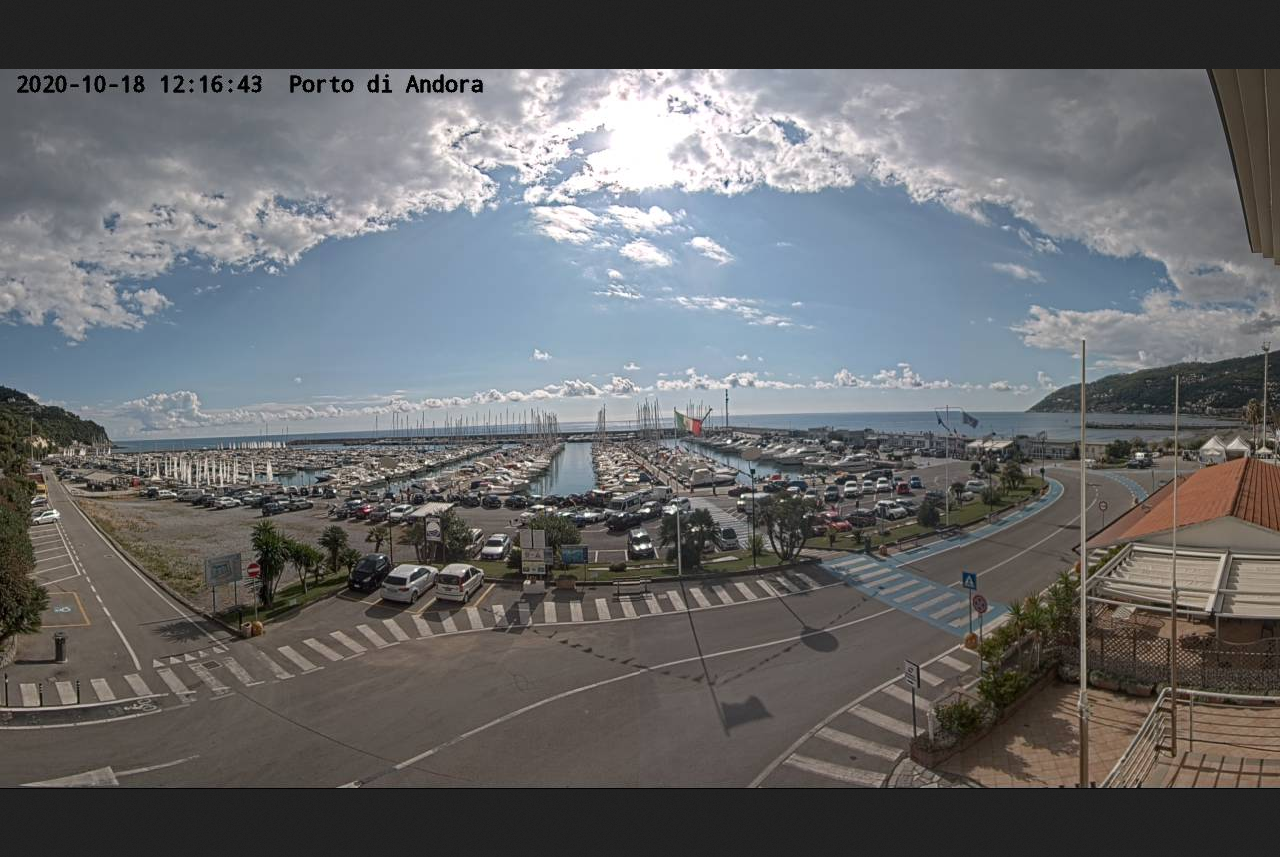yes: (669, 407, 705, 439), (957, 404, 983, 430)
